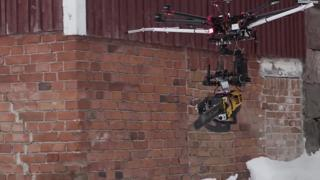UAV: (124, 0, 320, 56)
